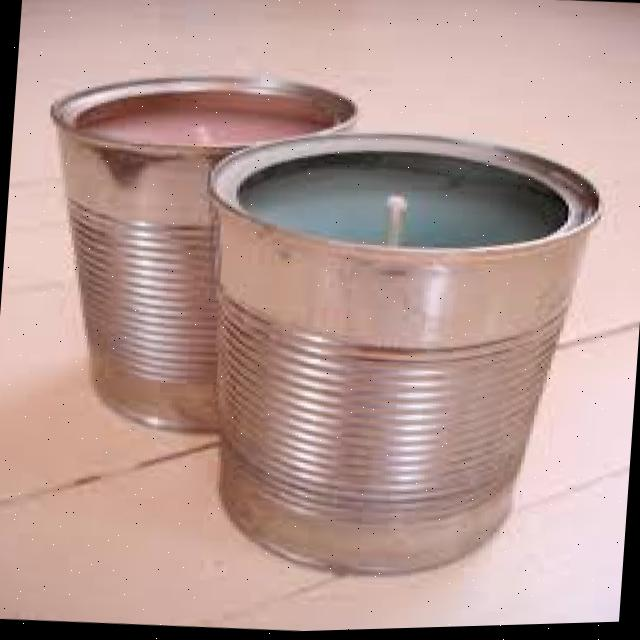Dry: (187, 117, 609, 595), (31, 59, 362, 449)
